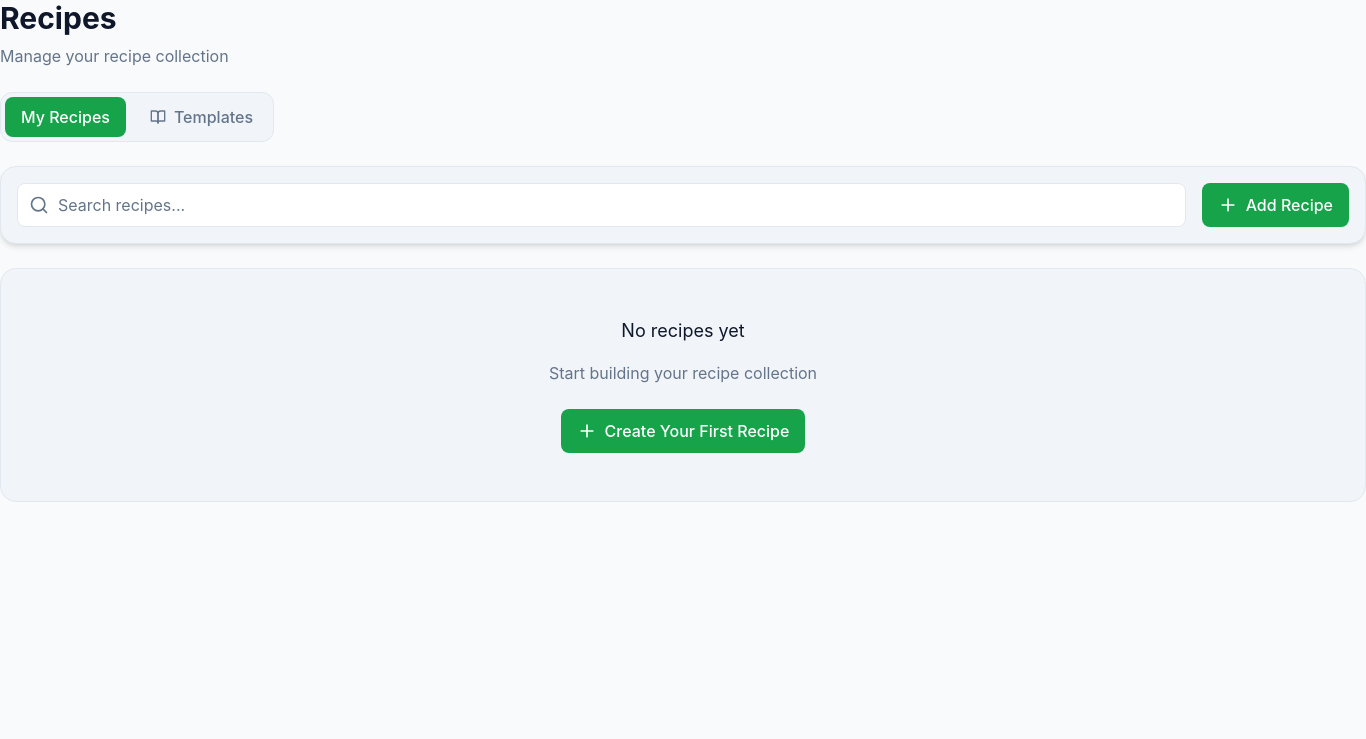
Scenario: Recipes Page User Interface › should display validation error message when user attempts to submit recipe form without required recipe name
The width and height of the screenshot is (1366, 739).
Expected: the text "No recipes yet" is shown, [621, 320, 745, 341]
Open form modal
Click the button "Add Recipe": (1275,205) [1202, 183, 1349, 227]
(page scrolled)
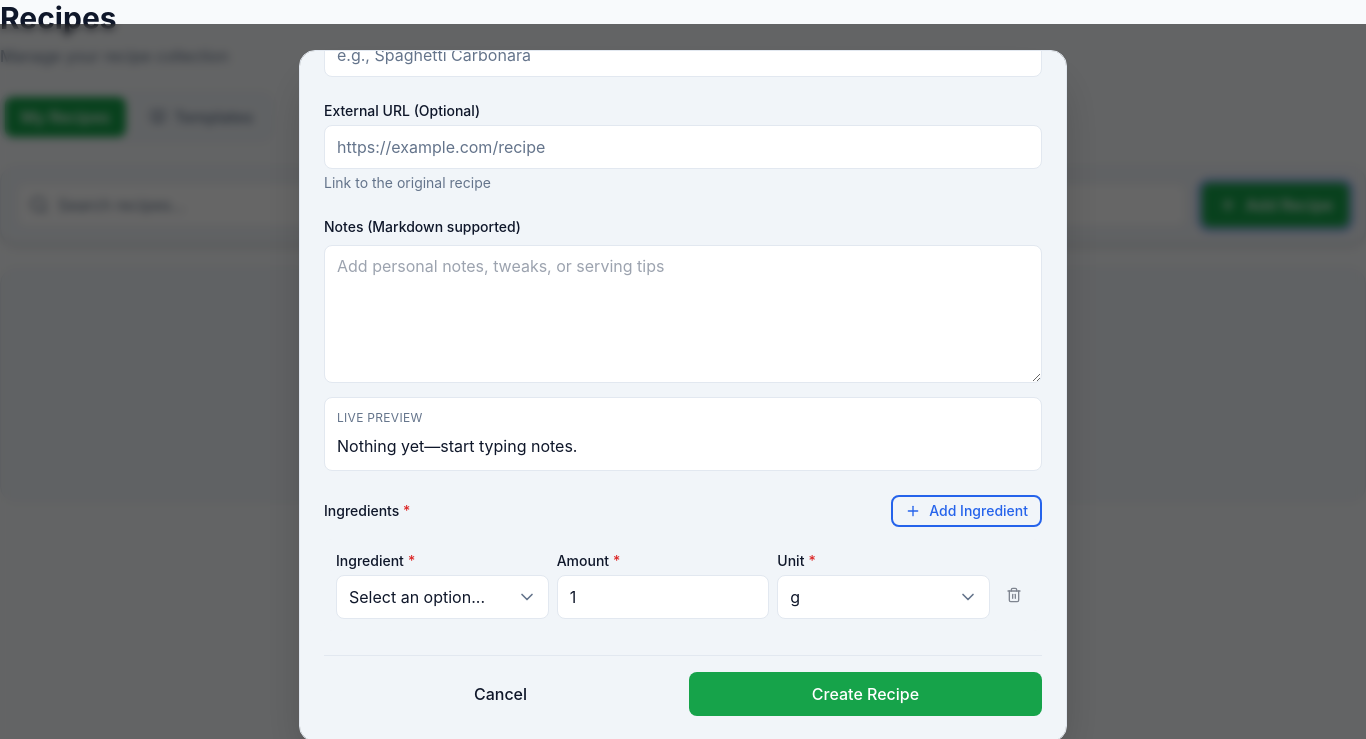
Attempt to submit form without filling required name field
Click the button "Create Recipe": (866,694) [689, 672, 1042, 716]
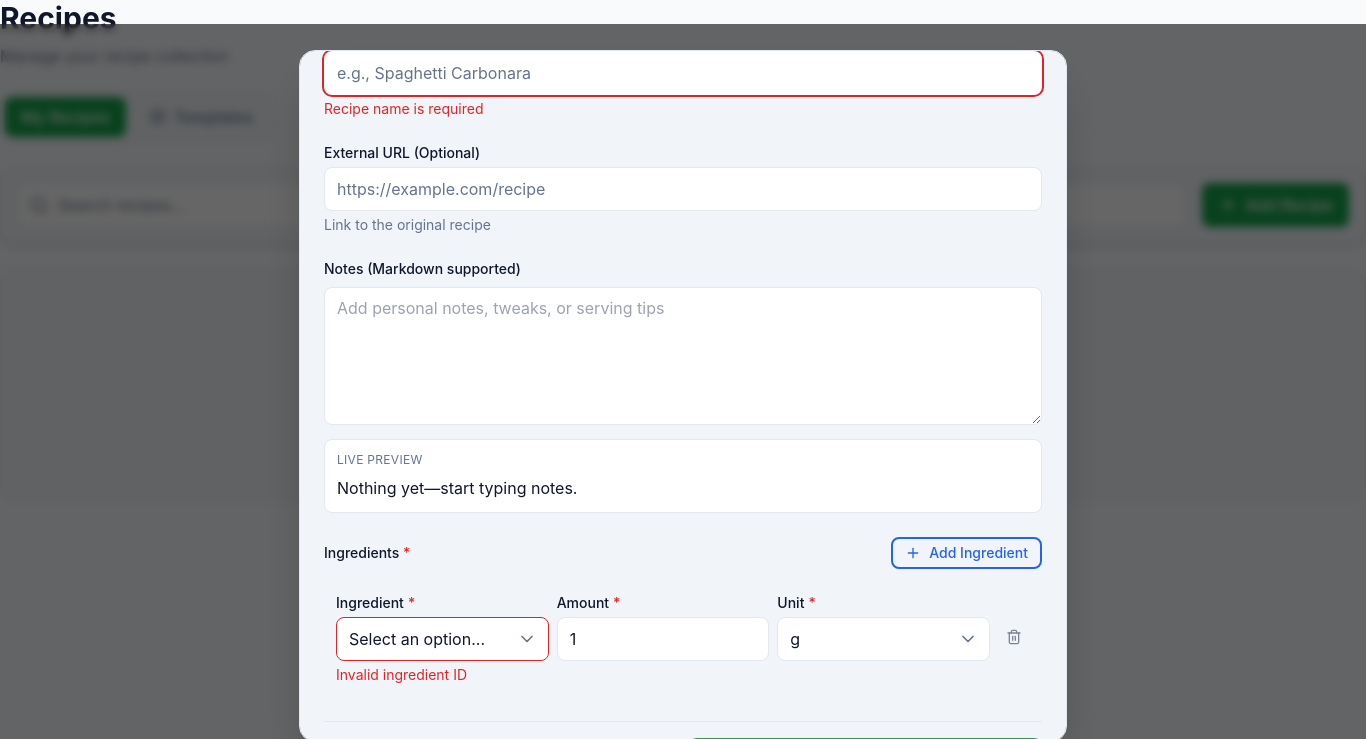
Expected: the text "Recipe name is required" is shown, [324, 100, 484, 117]
